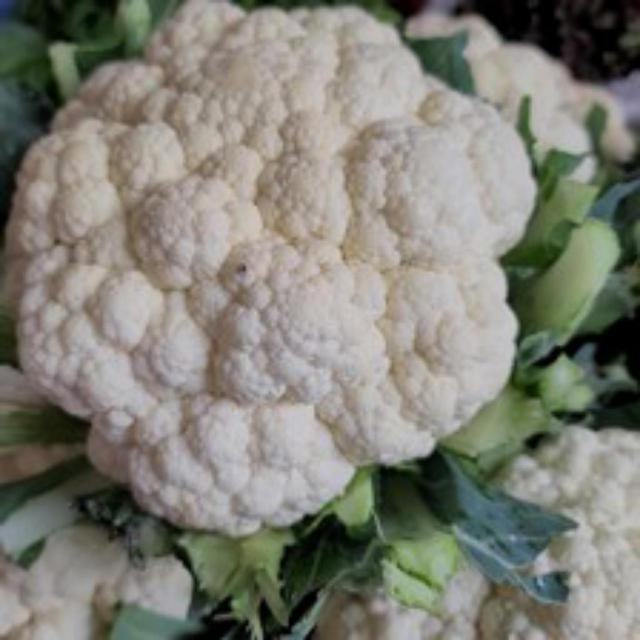cauliflower: (1, 7, 548, 532)
